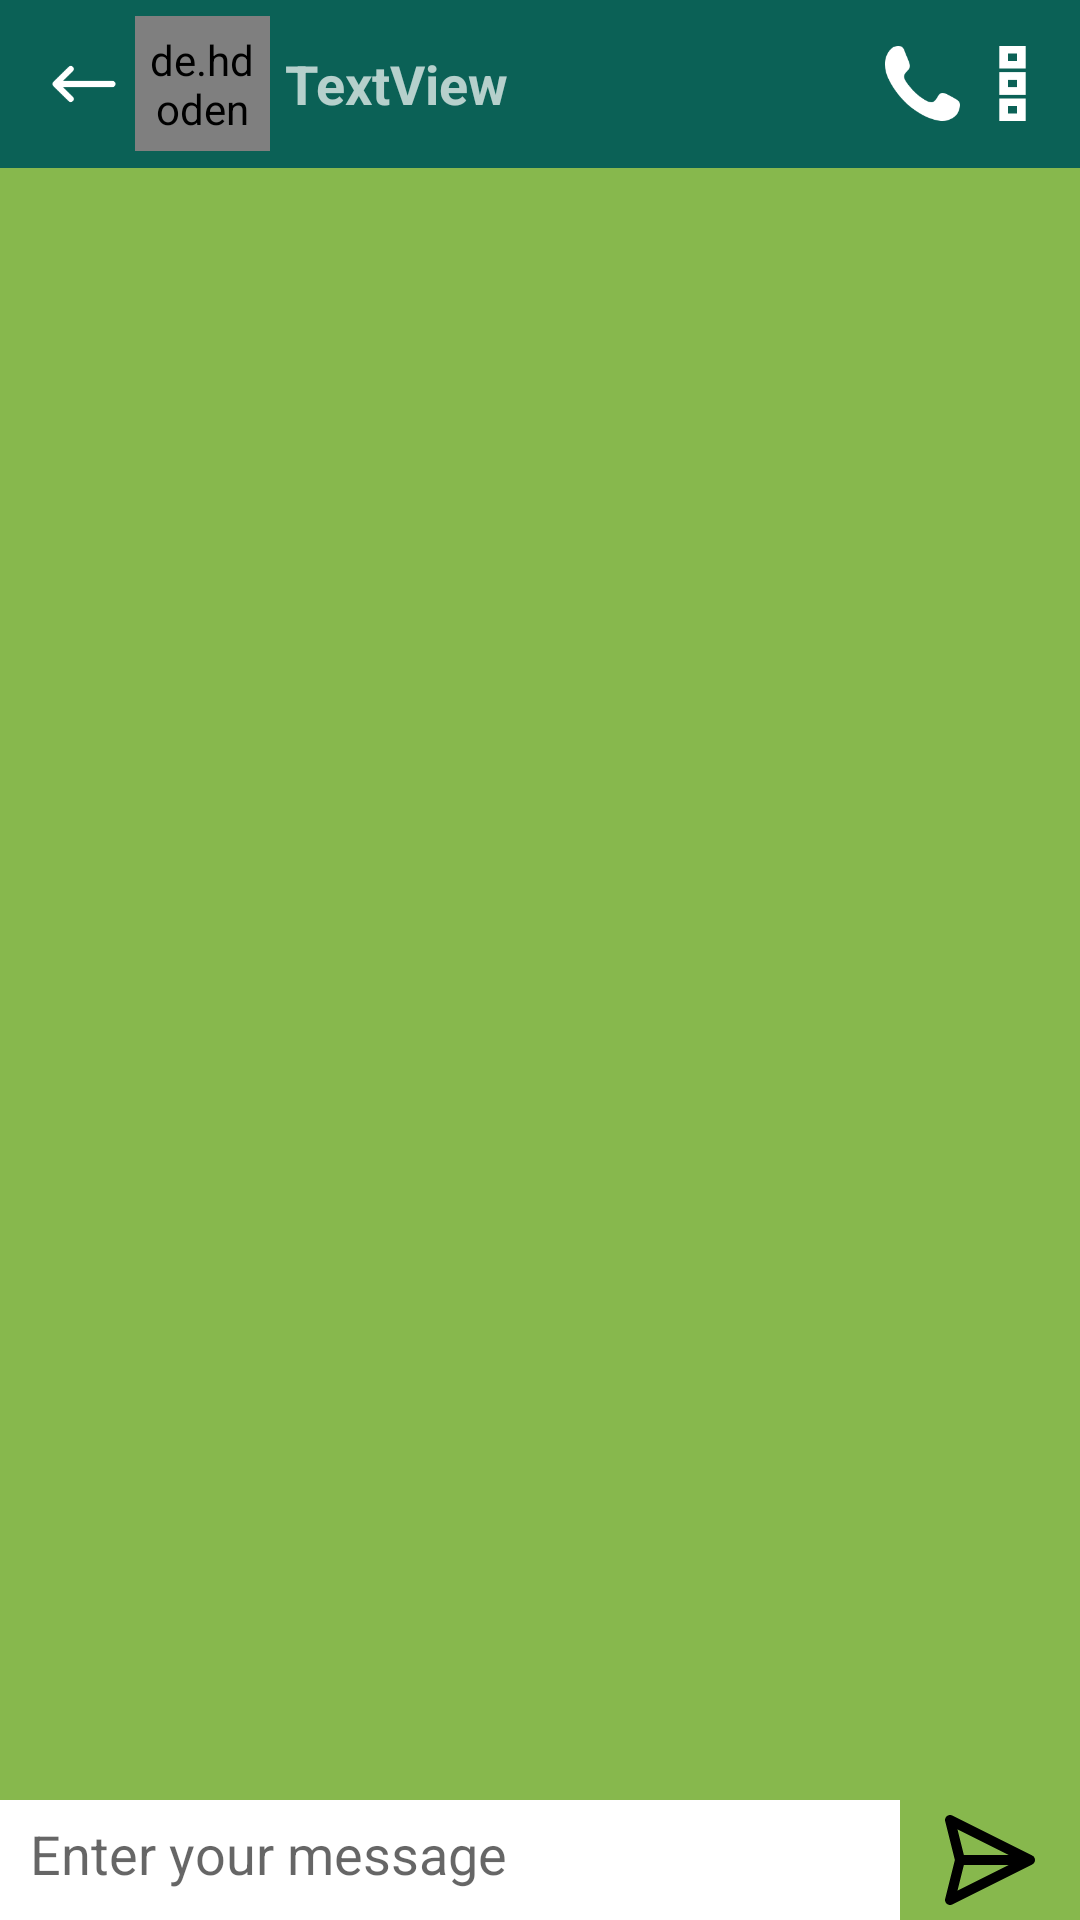

Point at icon controls on the screen. Image size 1080*1920, points as (x=x, y=y).
arrow left: (x=84, y=84)
call: (x=922, y=83)
menu: (x=1012, y=83)
send: (x=990, y=1860)
